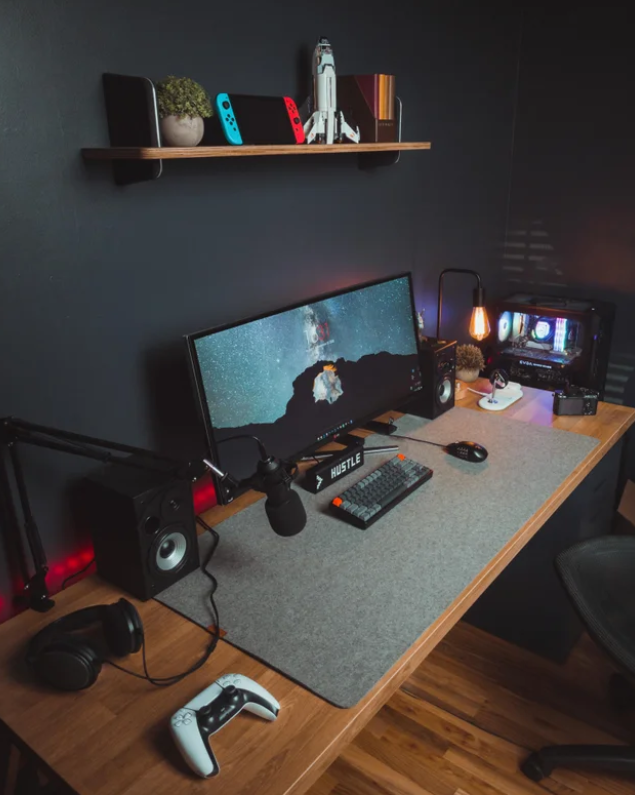gamingconsole: (166, 675, 280, 775)
